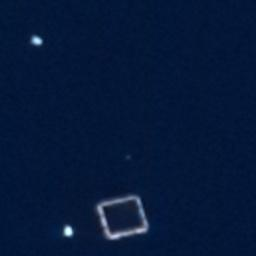square_solid: (92, 192, 155, 244)
